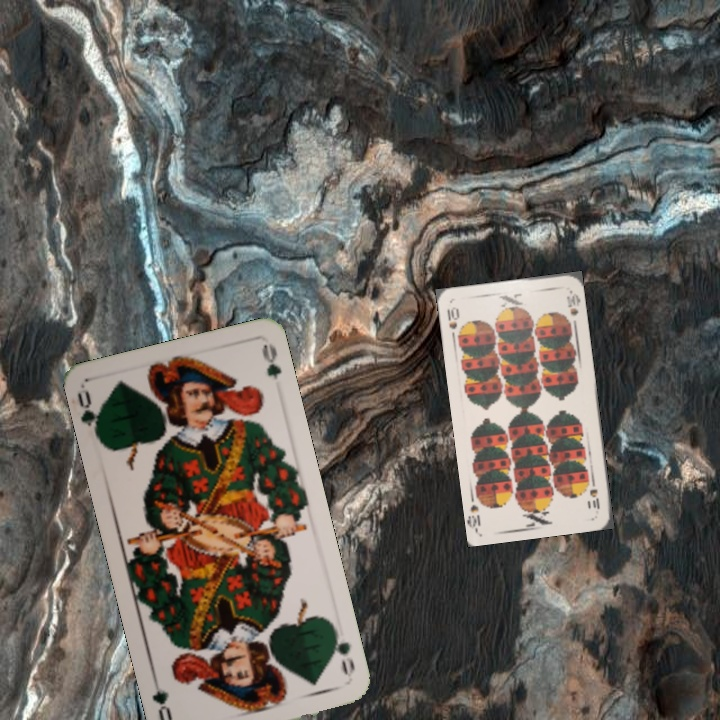GO: (73, 386, 104, 444), (328, 624, 358, 680)
S10: (443, 303, 464, 343), (585, 474, 602, 512)
